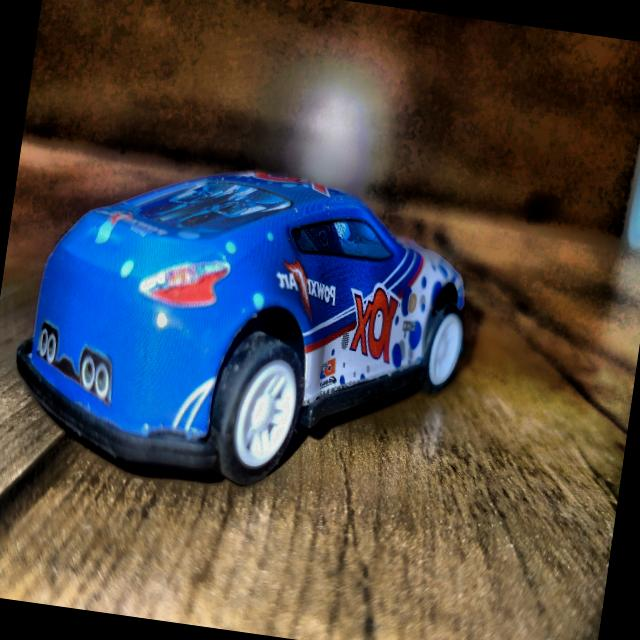Car: (4, 143, 482, 513)
